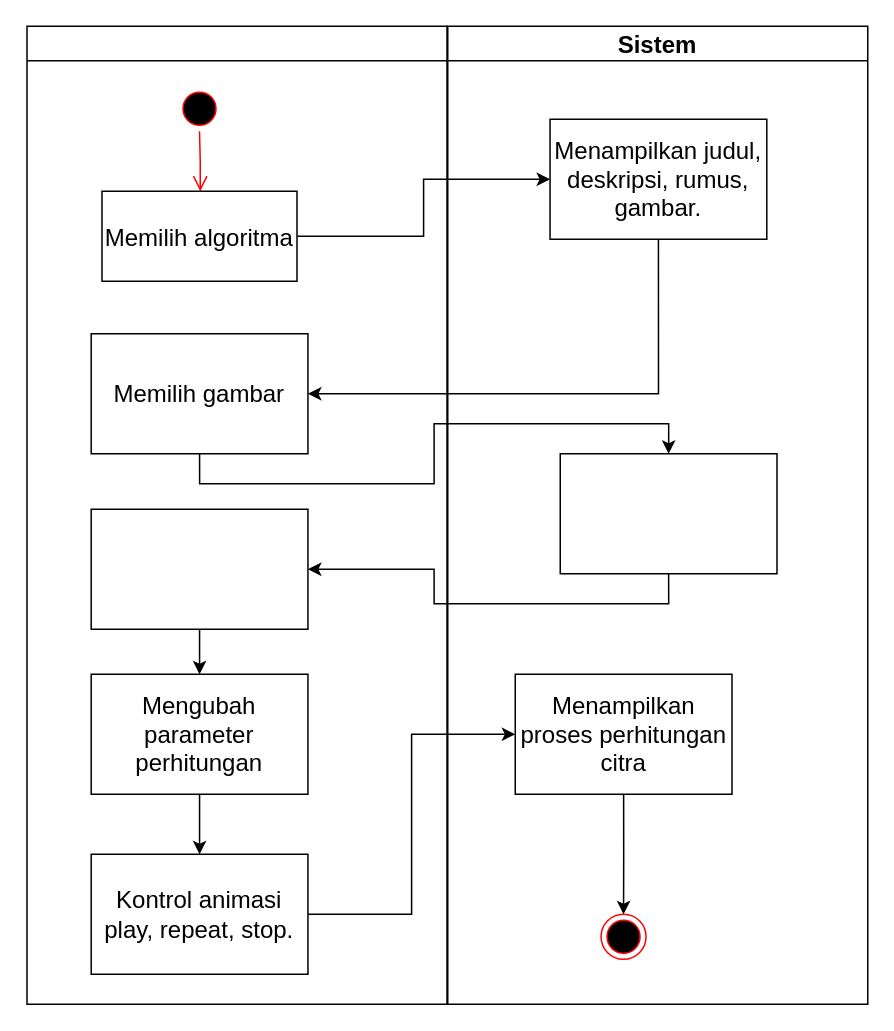
Image size: 894x1031. Some labels were removed from this diagram. The box of each missing label's shape, as (x1, y1, x2, y2) in pixels:
Menampilkan tabel citra, tabel hasil, proses perhitungan.: (559, 452, 777, 574)
Mengubah nilai citra gambar: (90, 508, 308, 629)
User: (26, 25, 447, 1004)
